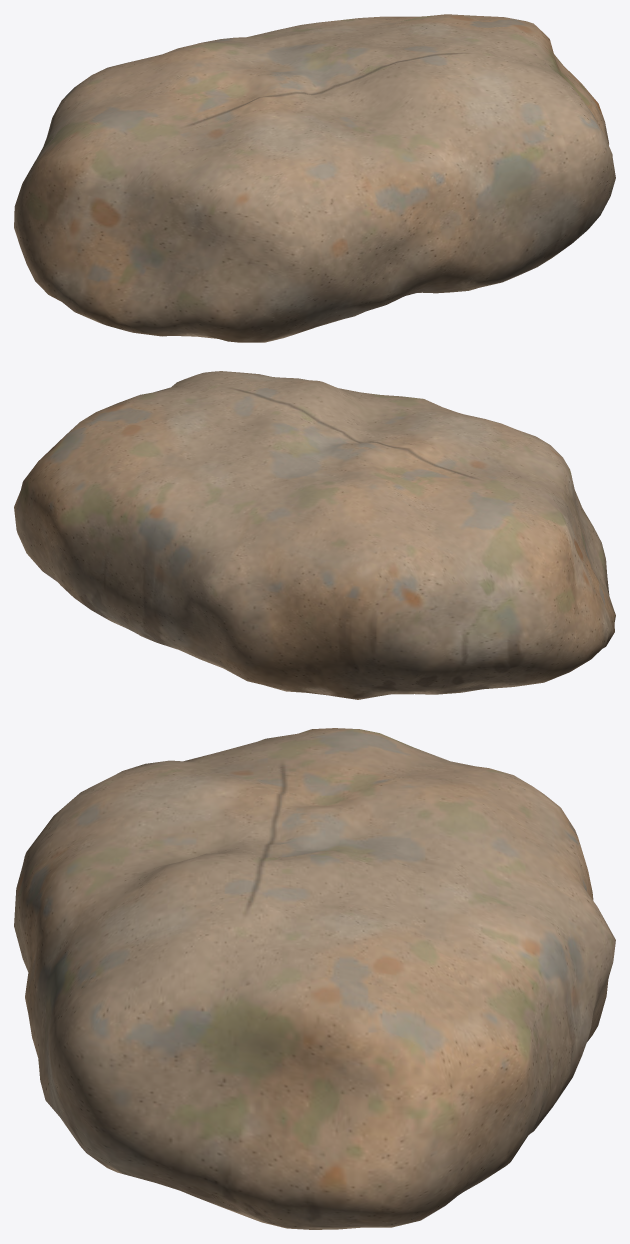
File: rock_c.glb
3 renders of one model, top to bottom at view 1: azimuth 30°, elevation 25°; view 2: azimuth 150°, elevation 25°; view 3: azimuth 270°, elevation 25°, orthographic. The views are drawn at different scales.
Visible parts, largest first — view 1: rock_c; view 2: rock_c; view 3: rock_c.
Boxes of the visible parts, x1,y1,x2,y2 form: rock_c: (14,14,615,342); rock_c: (14,371,615,699); rock_c: (14,728,615,1229).
Size of the model in its own units: 1.49 by 0.5287 by 1.02.
1 material, 1 textured.
